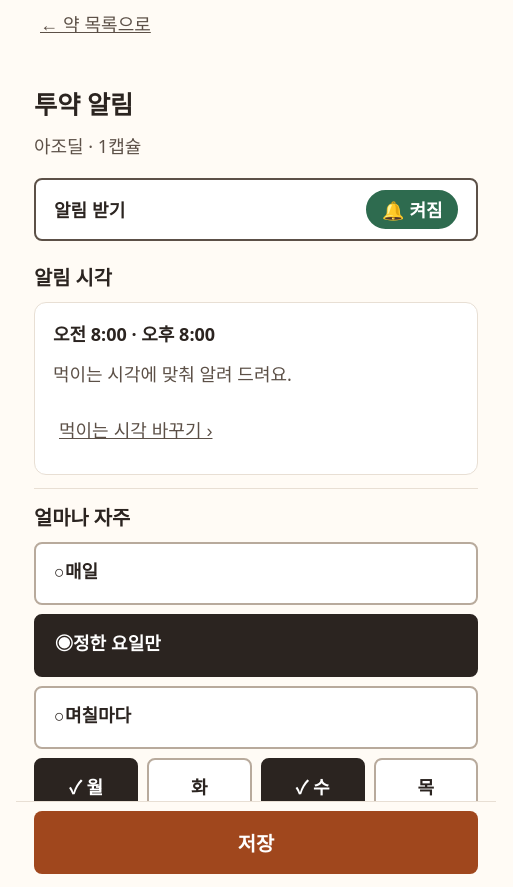
Test: 알림 설정 — 저장 › 서버 400 이면 설계 문구로 안내한다
Click the button "저장" at coordinates (256, 842), box [34,810,478,874]
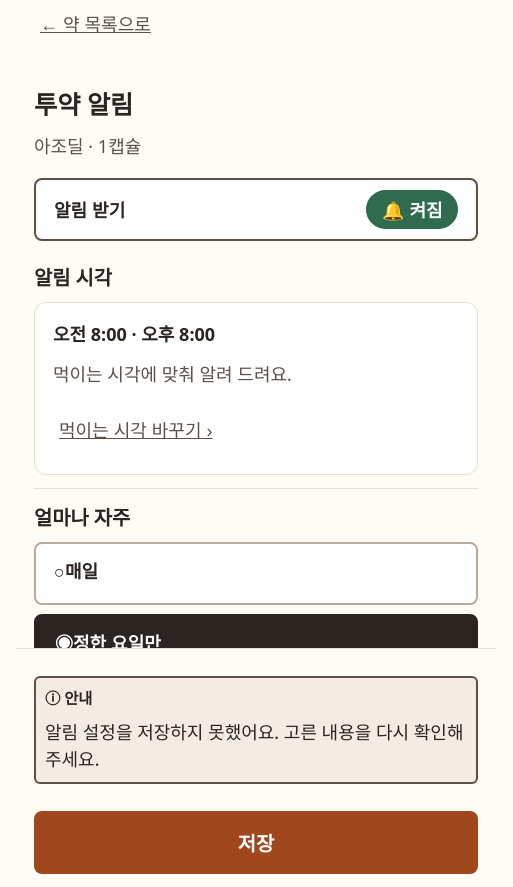
Check: the text "알림 설정을 저장하지 못했어요. 고른 내용을 다시 확인해 주세요." is shown, box [34,676,478,784]
